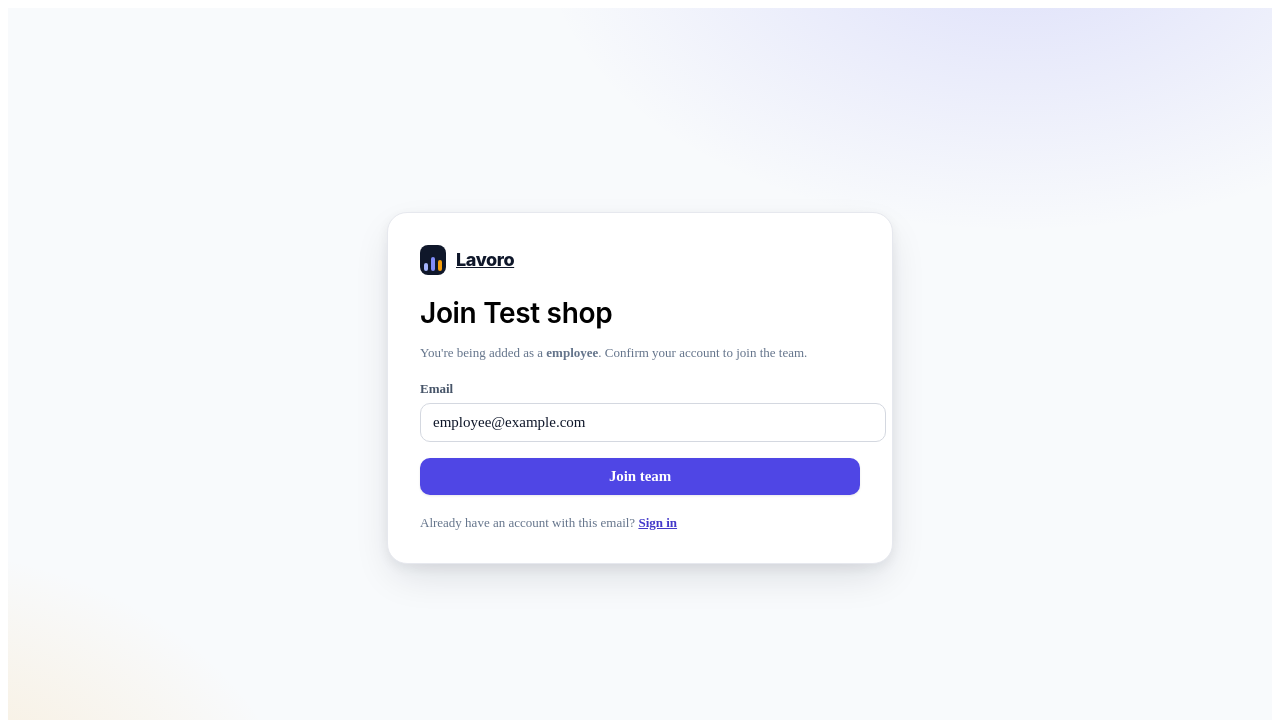
it: invitation edge cases › can retry acceptance after a failed response
Later steps or results of the test are not shown.
Expected: the heading "Join Test shop" is shown, [420,296,612,330]
Step 1. Click the button "Join team" → (640, 476), box [420,458,860,495]
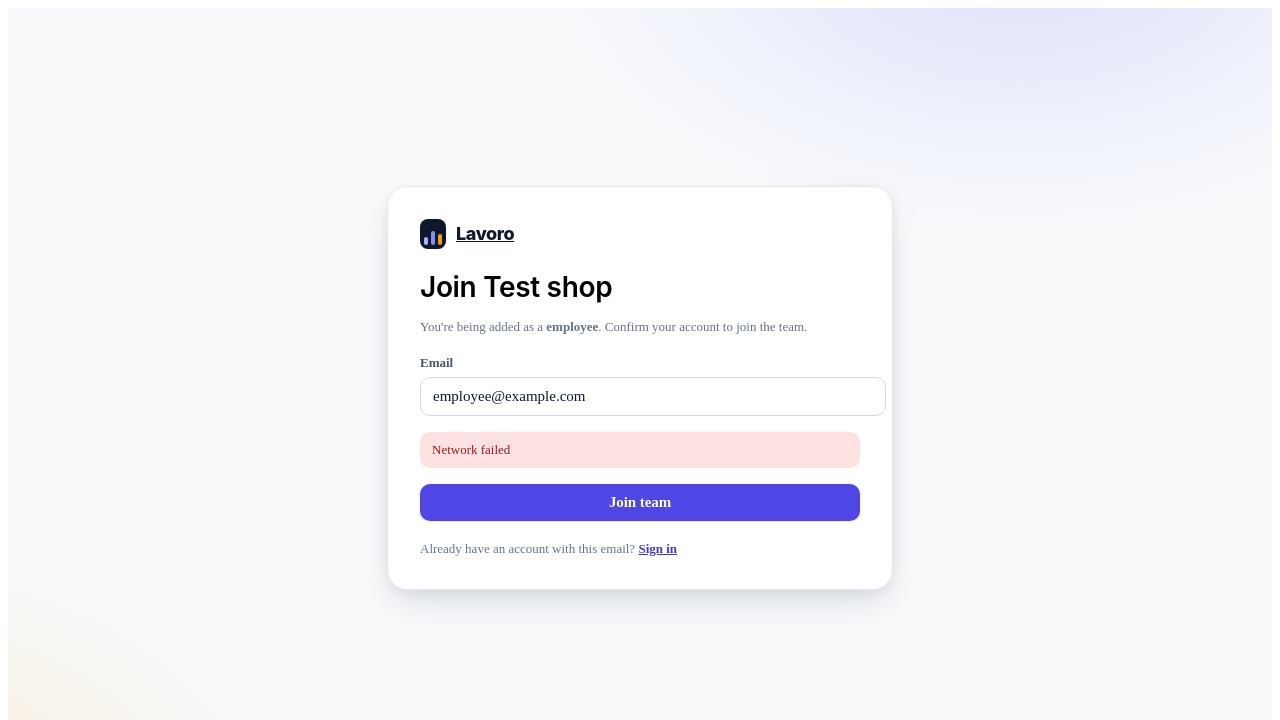
Expected: the message "Network failed" is shown, [420,432,860,468]
